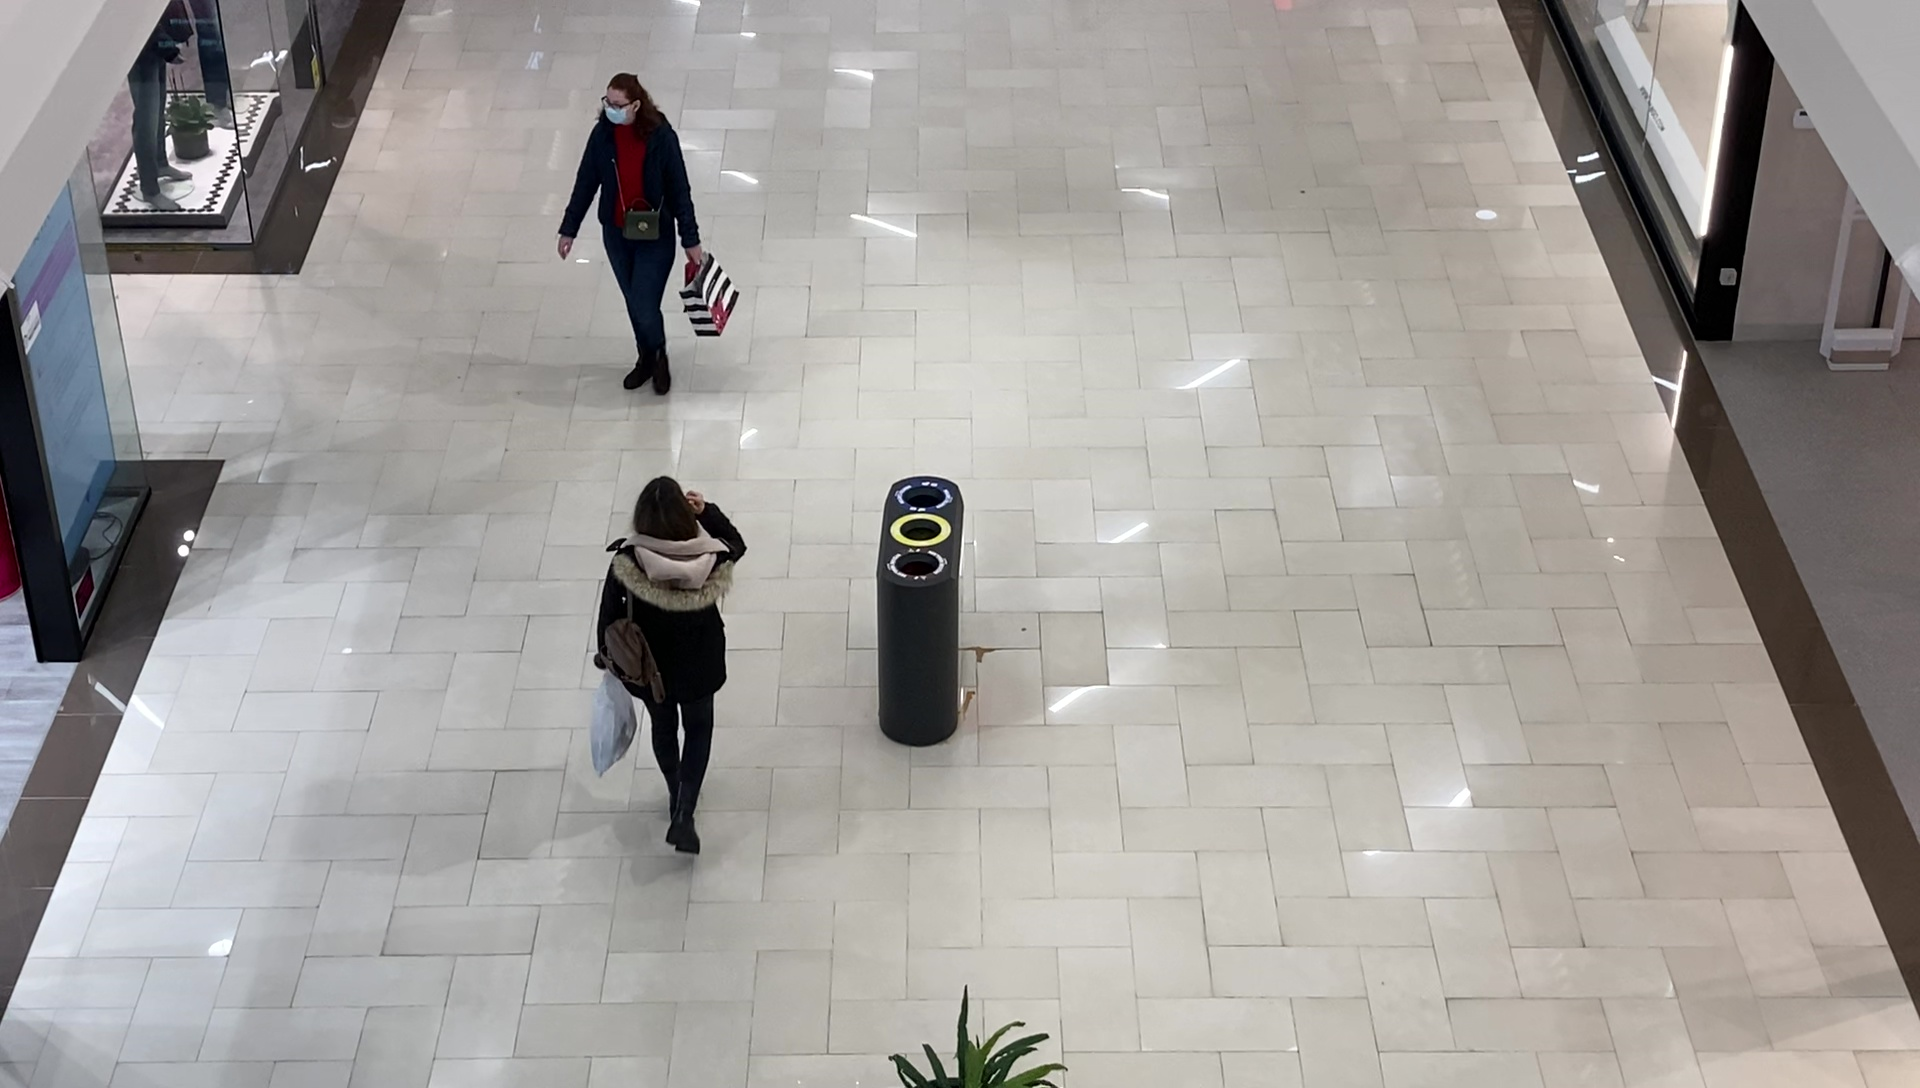person: (595, 478, 750, 857), (556, 72, 707, 396)
